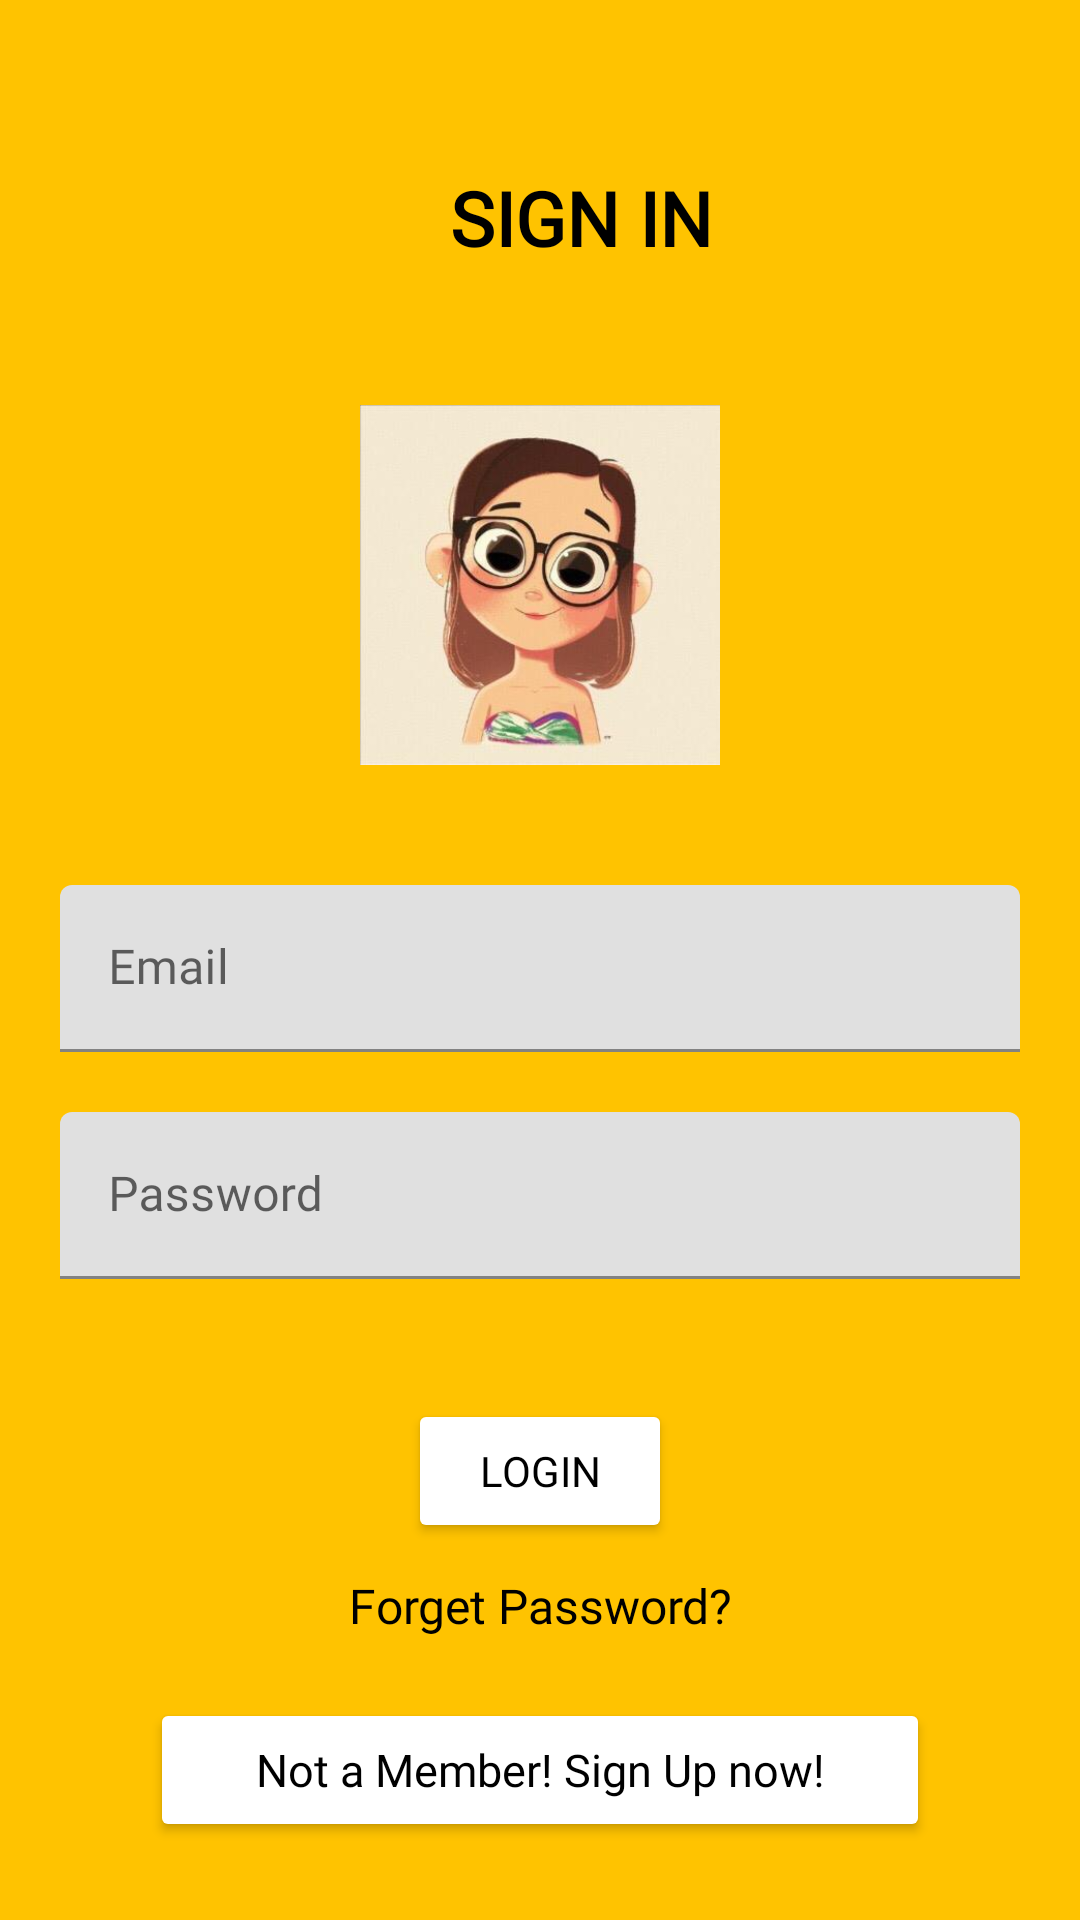

Point at icon controls on the screen. Image size 1080*1920, points as point (x, y).
user: point (540, 585)
